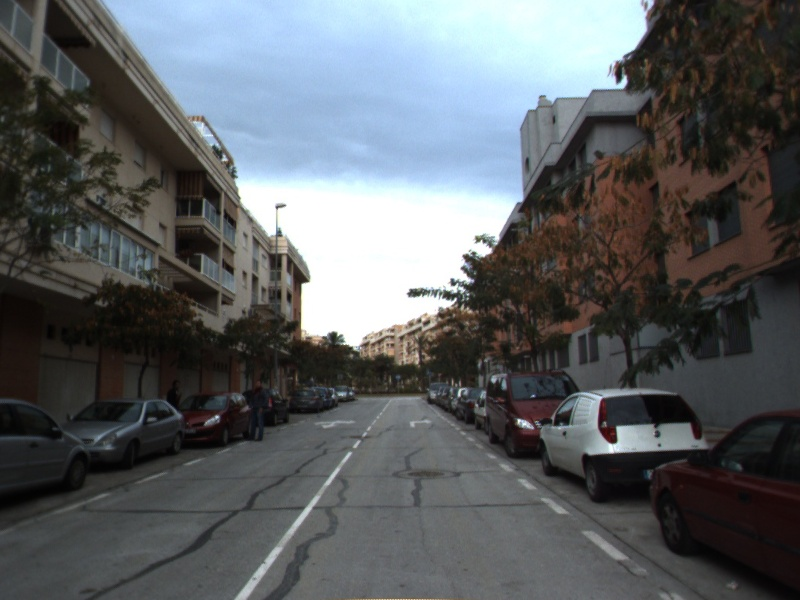RIGHT: (407, 417, 435, 429)
